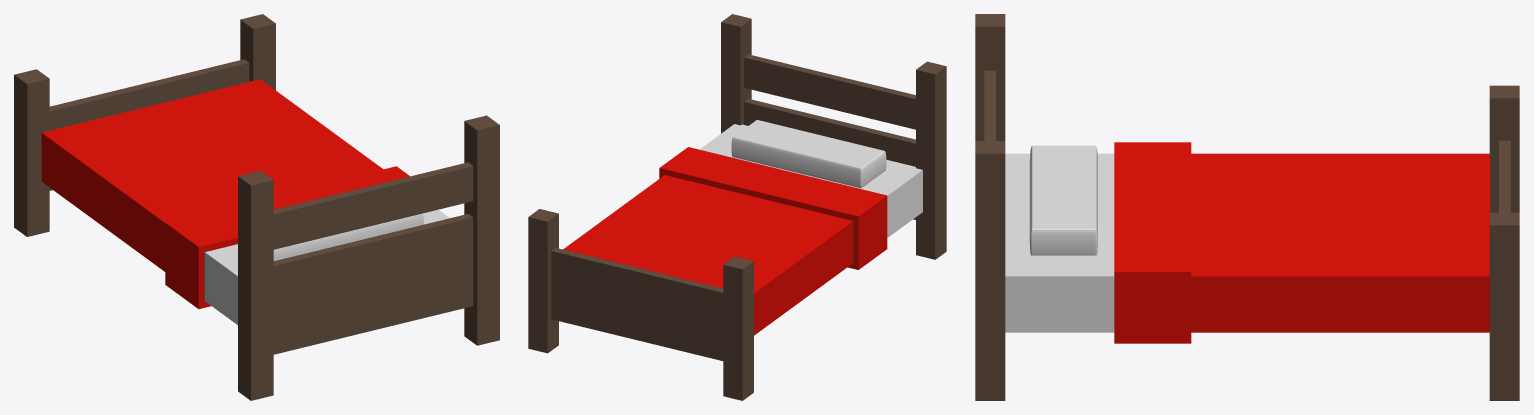
Rendered from bed.fbx.
The picture shows the model from 3 angles, left to right: view 1: azimuth 30°, elevation 25°; view 2: azimuth 150°, elevation 25°; view 3: azimuth 270°, elevation 25°; orthographic projection. The views are drawn at different scales.
Visible parts, largest first — view 1: Cube.003; view 2: Cube.003; view 3: Cube.003.
Part boxes in pixels (x1,y1,x2,y2): Cube.003: (14,14,499,400); Cube.003: (528,14,946,400); Cube.003: (975,14,1519,400).
Size of the model in its own units: 544 by 450 by 897.
